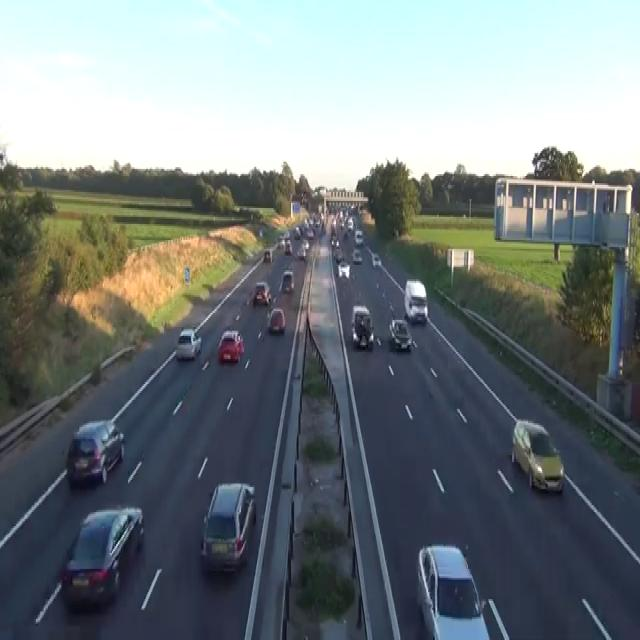Car: (60, 505, 144, 610), (416, 542, 491, 638), (199, 482, 256, 574), (66, 418, 125, 487), (511, 418, 564, 492), (479, 598, 511, 638), (403, 278, 428, 324), (217, 329, 244, 363), (175, 327, 202, 359), (388, 318, 412, 350), (351, 304, 371, 329), (252, 281, 271, 306), (266, 308, 285, 332), (279, 268, 294, 294), (364, 244, 381, 266), (337, 261, 350, 279), (352, 247, 362, 263), (278, 231, 289, 245), (354, 230, 363, 246), (371, 252, 381, 266), (334, 249, 344, 263), (296, 246, 306, 260), (284, 238, 292, 254), (346, 217, 354, 231), (263, 249, 271, 261), (331, 235, 339, 247), (300, 192, 308, 204), (301, 238, 309, 249), (293, 226, 300, 238), (350, 203, 358, 213), (306, 228, 314, 238), (339, 217, 344, 227), (343, 230, 349, 238), (258, 228, 262, 236)
Truck: (350, 304, 374, 350)
